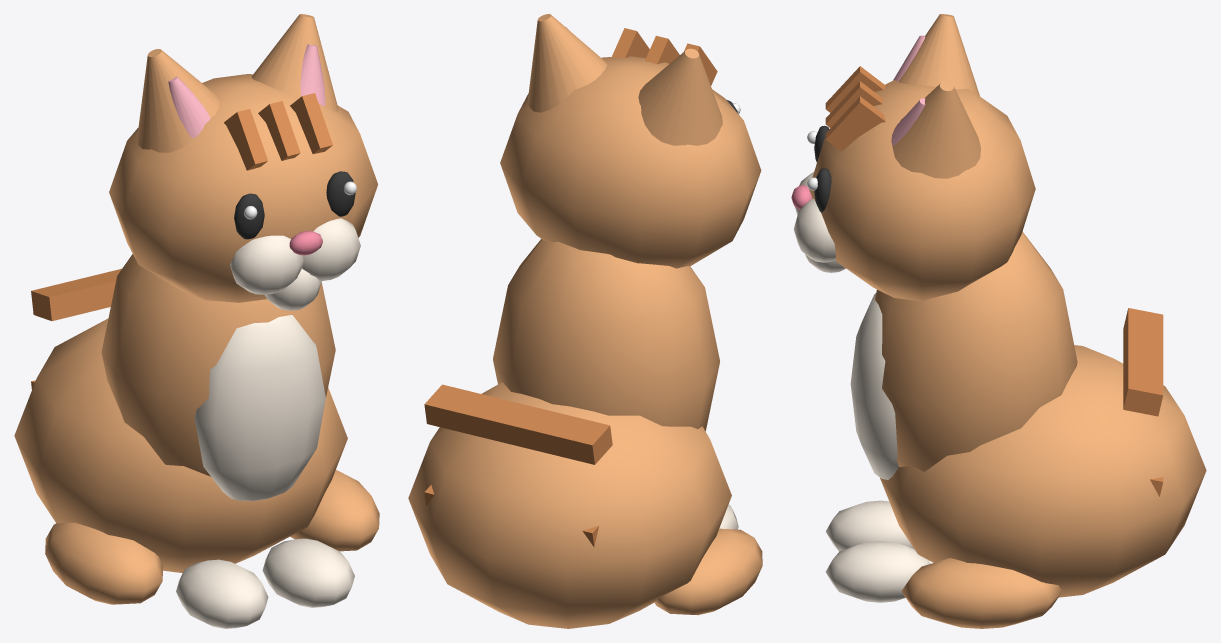
Rendered from cat_fence.glb.
The picture shows the model from 3 angles, left to right: view 1: azimuth 30°, elevation 25°; view 2: azimuth 150°, elevation 25°; view 3: azimuth 270°, elevation 25°; orthographic projection. The views are drawn at different scales.
Visible parts, largest first — view 1: cat_fence; view 2: cat_fence; view 3: cat_fence.
Boxes of the visible parts, x1,y1,x2,y2 form: cat_fence: (14,14,379,628); cat_fence: (408,14,762,628); cat_fence: (791,14,1206,628).
Bounding box in the file's own units: 0.281 × 0.4917 × 0.3476.
